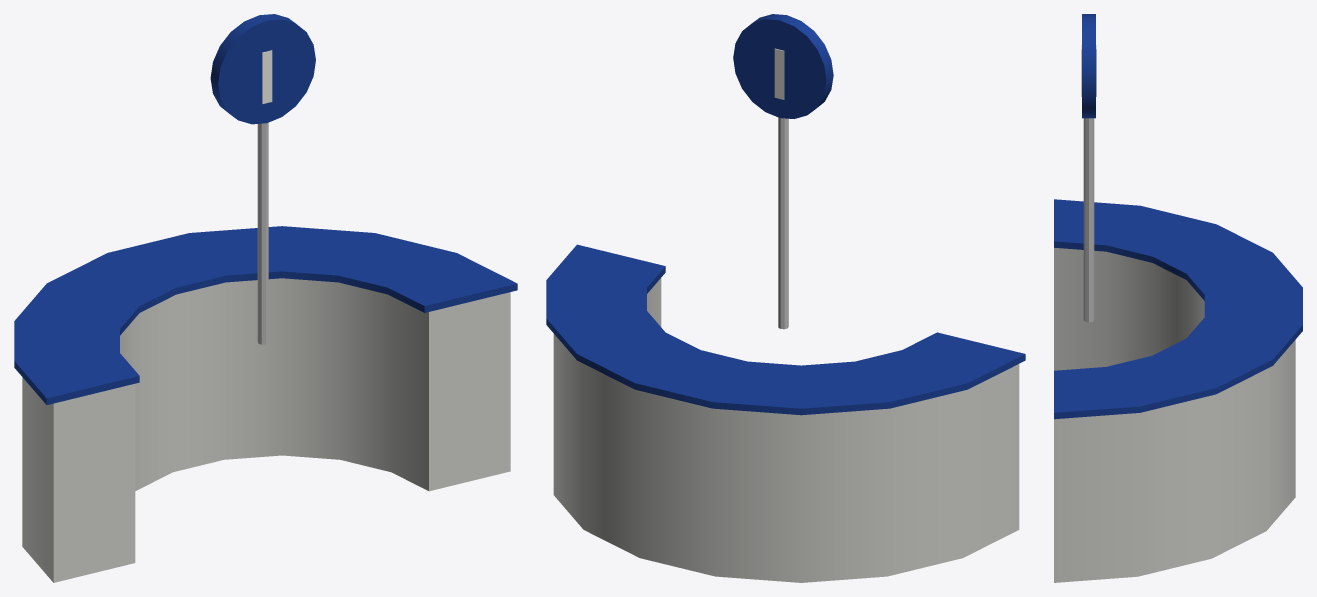
Rendered from station.rail.info_desk.glb.
3 renders of one model, left to right at view 1: azimuth 30°, elevation 25°; view 2: azimuth 150°, elevation 25°; view 3: azimuth 270°, elevation 25°, orthographic. The views are drawn at different scales.
Parts seen in each view (by area): view 1: main__laminate_white, main__plastic_blue, main__steel_stainless; view 2: main__laminate_white, main__plastic_blue, main__steel_stainless; view 3: main__laminate_white, main__plastic_blue, main__steel_stainless.
Part boxes in pixels (x1=…): main__laminate_white: x1=22, y1=278, x2=510, y2=582; main__plastic_blue: x1=14, y1=14, x2=517, y2=404; main__steel_stainless: x1=257, y1=122, x2=268, y2=344; main__laminate_white: x1=553, y1=278, x2=1019, y2=582; main__plastic_blue: x1=546, y1=14, x2=1025, y2=415; main__steel_stainless: x1=778, y1=117, x2=788, y2=329; main__laminate_white: x1=1054, y1=247, x2=1295, y2=582; main__plastic_blue: x1=1054, y1=14, x2=1302, y2=419; main__steel_stainless: x1=1083, y1=118, x2=1094, y2=322.
Bounding box in the file's own units: 2.88 × 2.9 × 1.42.
